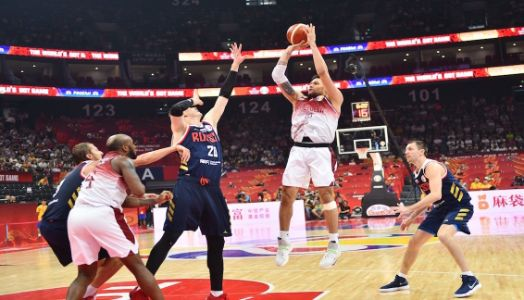baloncesto: (286, 23, 312, 47)
